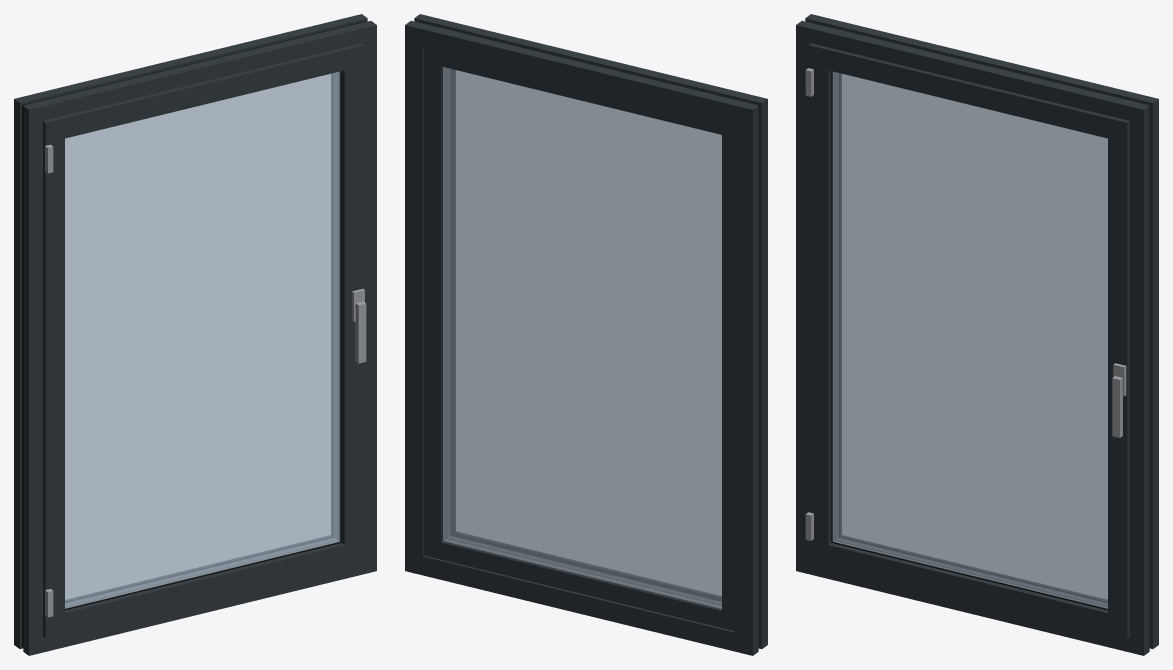
Rendered from vista-guard.glb.
3 renders of one model, left to right at view 1: azimuth 30°, elevation 25°; view 2: azimuth 150°, elevation 25°; view 3: azimuth 330°, elevation 25°, orthographic.
Parts seen in each view (by area): view 1: Vista Guard; view 2: Vista Guard; view 3: Vista Guard.
Boxes of the visible parts, x1=… form: Vista Guard: x1=14, y1=14, x2=376, y2=655; Vista Guard: x1=405, y1=14, x2=767, y2=655; Vista Guard: x1=796, y1=14, x2=1158, y2=655.
Size of the model in its own units: 1 by 1.5 by 0.108.
